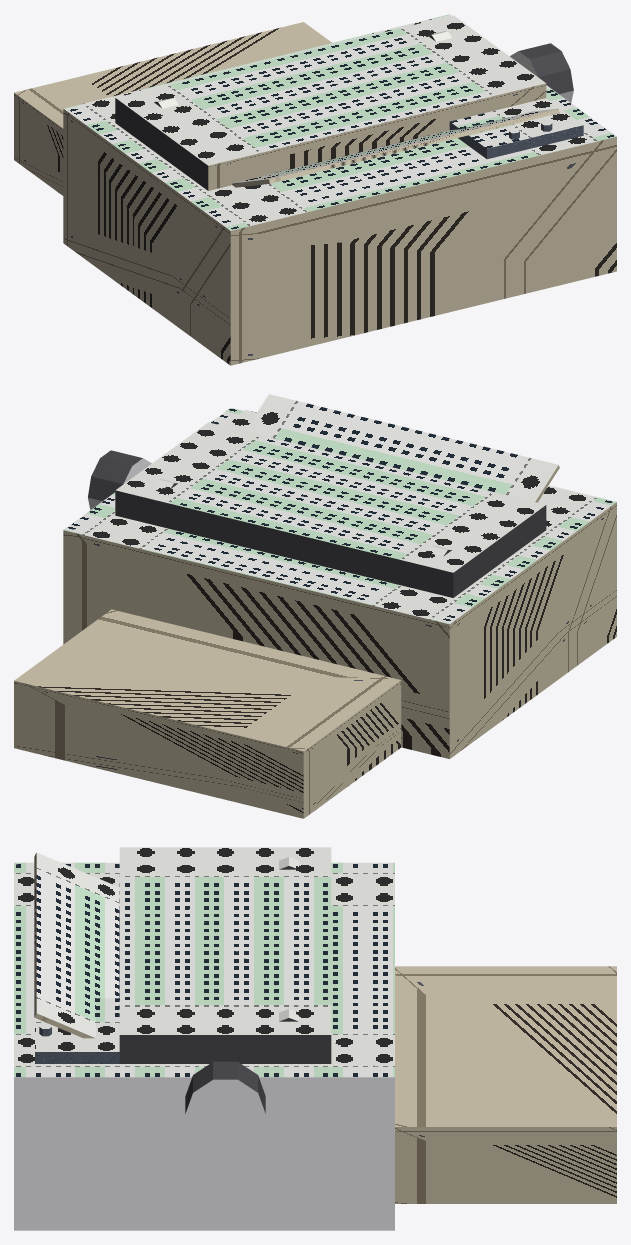
Rendered from matrix_printer.glb.
The picture shows the model from 3 angles, top to bottom: view 1: azimuth 30°, elevation 25°; view 2: azimuth 150°, elevation 25°; view 3: azimuth 270°, elevation 25°; orthographic projection. The views are drawn at different scales.
Parts seen in each view (by area): view 1: matrix_printer; view 2: matrix_printer; view 3: matrix_printer.
Boxes of the visible parts, x1,y1,x2,y2 form: matrix_printer: [14, 14, 616, 365]; matrix_printer: [14, 394, 616, 818]; matrix_printer: [14, 847, 616, 1230].
Bounding box in the file's own units: 0.52 × 0.1988 × 0.57.
5 materials, 3 textured.
